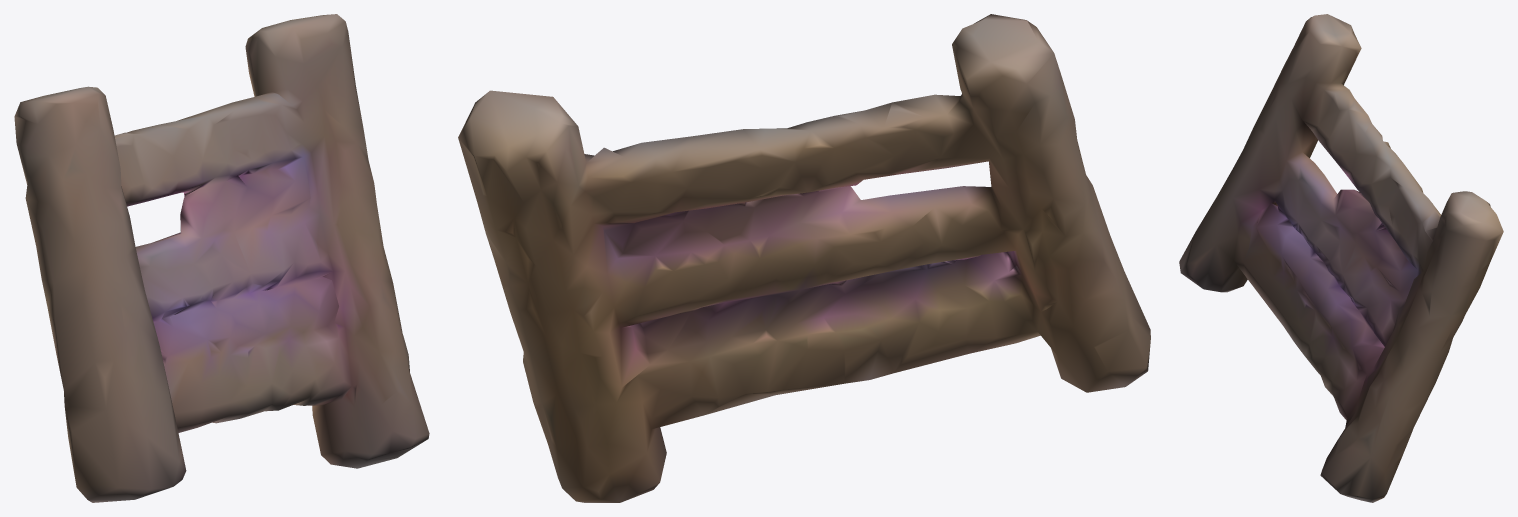
File: cerca_madeira.glb
3 views of the same model, side by side, from view 1: azimuth 30°, elevation 25°; view 2: azimuth 150°, elevation 25°; view 3: azimuth 270°, elevation 25° (orthographic). The views are drawn at different scales.
Bounding box in the file's own units: 0.9437 × 0.9971 × 0.8164.
